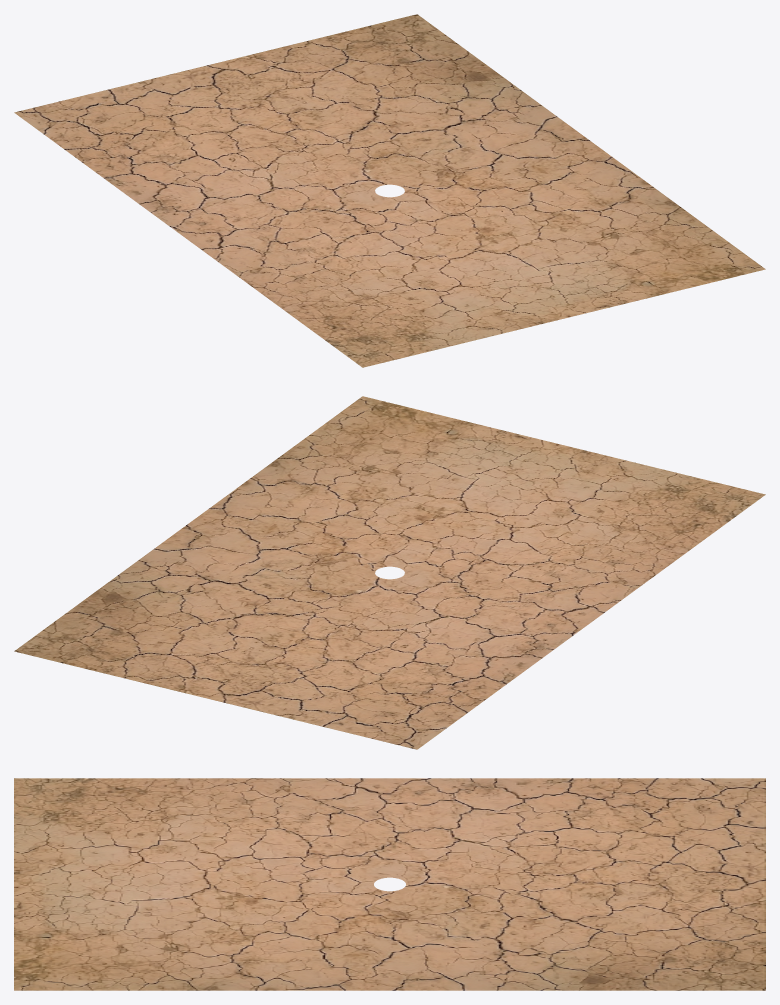
The model's file is suelo2.fbx.
The picture shows the model from 3 angles, top to bottom: view 1: azimuth 30°, elevation 25°; view 2: azimuth 150°, elevation 25°; view 3: azimuth 270°, elevation 25°; orthographic projection. The views are drawn at different scales.
Visible parts, largest first — view 1: upscalemedia-transformed; view 2: upscalemedia-transformed; view 3: upscalemedia-transformed.
Boxes of the visible parts, x1,y1,x2,y2 form: upscalemedia-transformed: (14, 14, 765, 367); upscalemedia-transformed: (14, 396, 765, 749); upscalemedia-transformed: (14, 778, 765, 990).
Bounding box in the file's own units: 250 × 1.09e-05 × 374.
